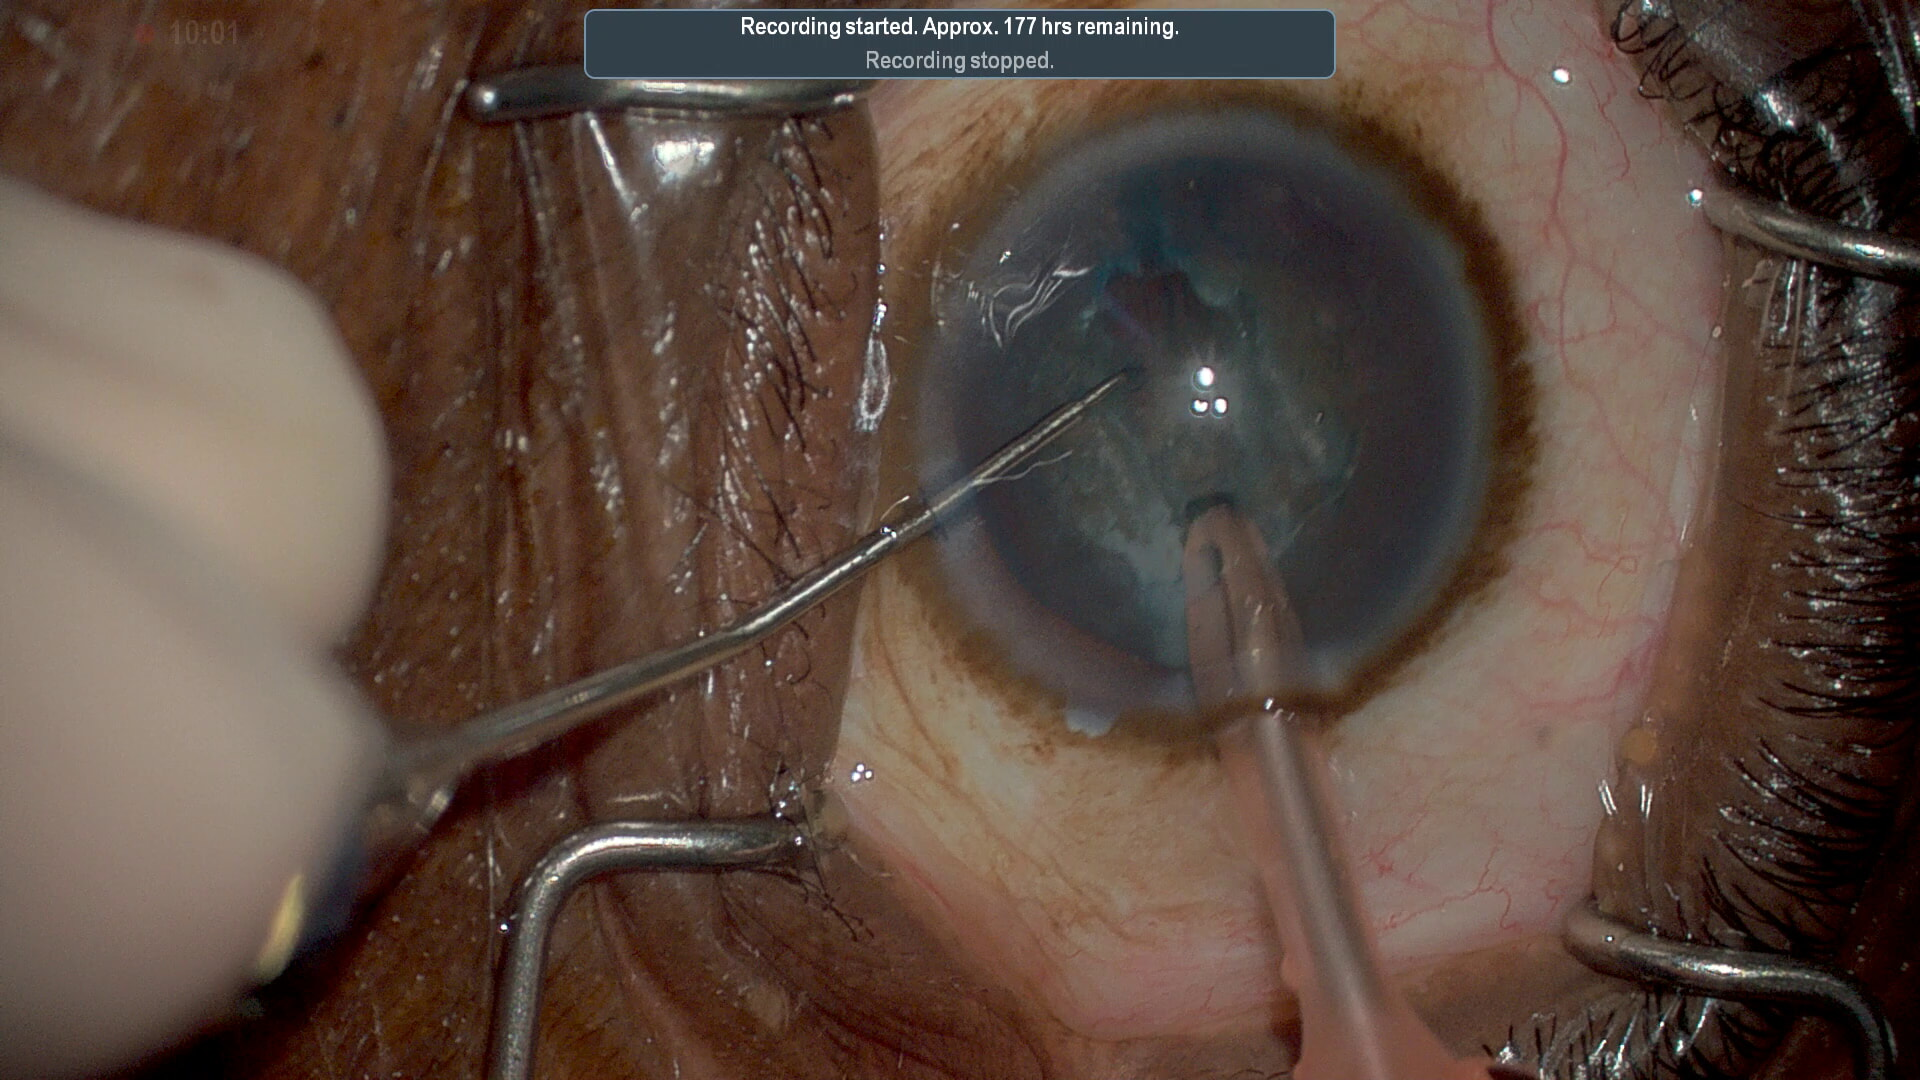iris: (916, 114, 1501, 705)
pupil: (976, 182, 1447, 646)
